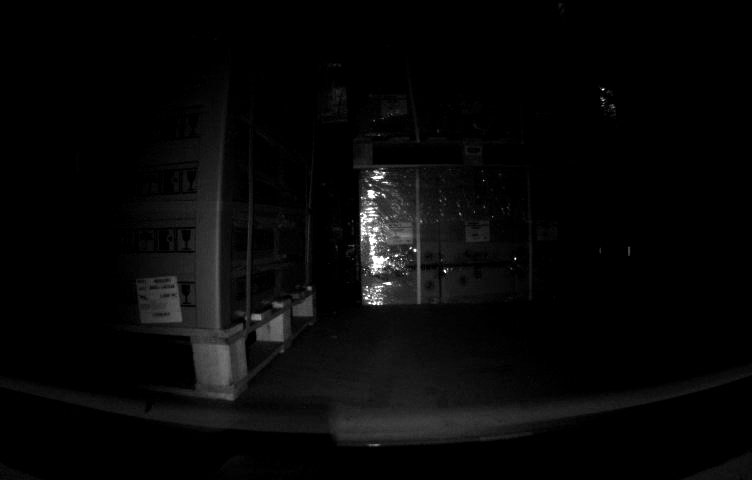True Barcode: (135, 275, 181, 323)
